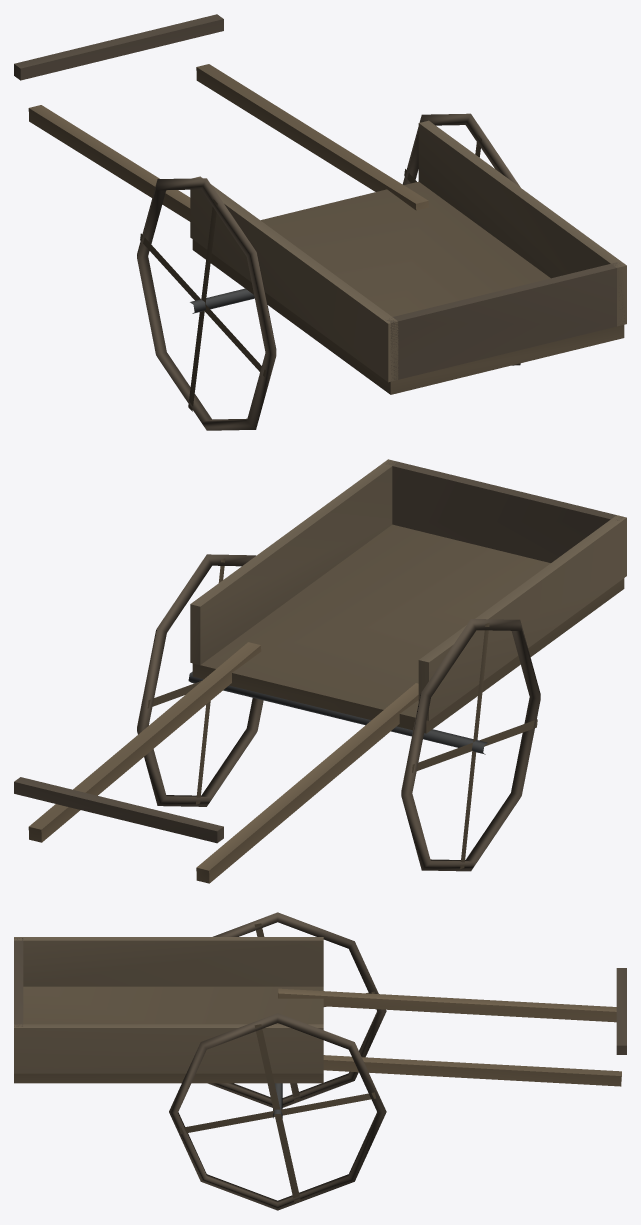
Rendered from m01_prop_hand_cart_lod1.glb.
3 renders of one model, top to bottom at view 1: azimuth 30°, elevation 25°; view 2: azimuth 150°, elevation 25°; view 3: azimuth 270°, elevation 25°, orthographic. The views are drawn at different scales.
Parts seen in each view (by area): view 1: hand_cart; view 2: hand_cart; view 3: hand_cart.
Boxes of the visible parts, box(x1,y1,x2,y2) form: hand_cart: box(14, 14, 626, 430); hand_cart: box(14, 459, 626, 883); hand_cart: box(14, 912, 626, 1210).
Size of the model in its own units: 1.16 by 0.95 by 2.67.
